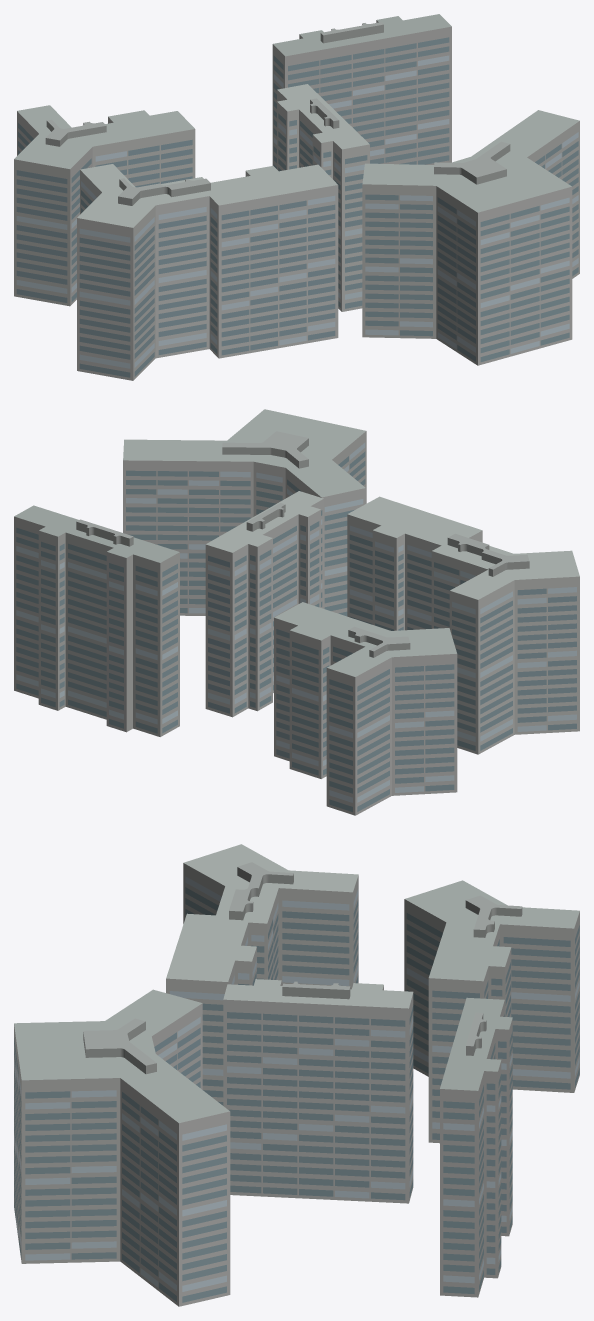
Rendered from apt-a15601003.glb.
The picture shows the model from 3 angles, top to bottom: view 1: azimuth 30°, elevation 25°; view 2: azimuth 150°, elevation 25°; view 3: azimuth 270°, elevation 25°; orthographic projection. The views are drawn at different scales.
Visible parts, largest first — view 1: apt-a15601003; view 2: apt-a15601003; view 3: apt-a15601003.
Boxes of the visible parts, x1,y1,x2,y2 form: apt-a15601003: [14, 14, 579, 380]; apt-a15601003: [14, 409, 579, 815]; apt-a15601003: [14, 844, 579, 1306].
Size of the model in its own units: 149 by 54 by 128.
